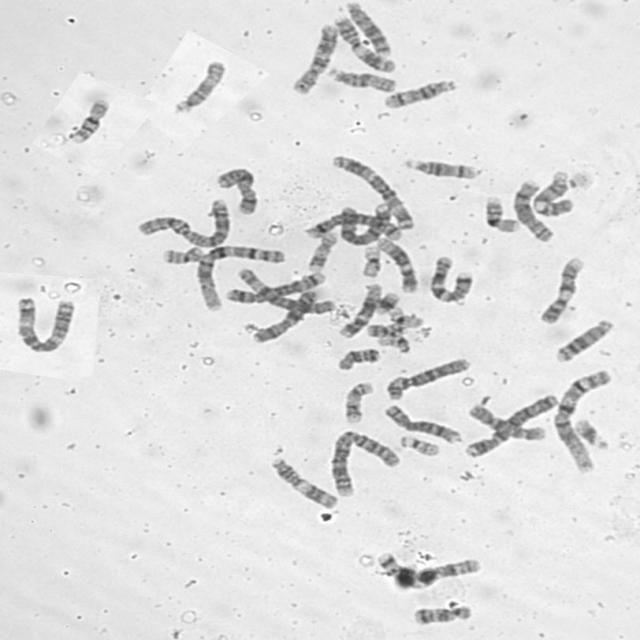A1: (552, 370, 612, 475), (196, 245, 286, 313)
A2: (329, 429, 401, 498), (136, 199, 230, 248)
A3: (331, 154, 417, 230), (16, 294, 78, 358)
B4: (463, 394, 559, 459), (338, 201, 393, 247)
B5: (224, 270, 326, 305), (306, 214, 403, 242)
C10: (292, 24, 338, 95), (467, 403, 548, 442)
C11: (332, 14, 396, 73), (272, 458, 340, 510)
C12: (338, 283, 382, 339), (375, 238, 419, 294)
C6: (236, 267, 336, 316), (386, 357, 472, 401)
C7: (378, 551, 482, 581), (430, 255, 474, 304)
C8: (383, 404, 463, 445), (513, 179, 555, 244)
C9: (539, 256, 586, 325), (530, 170, 576, 219)
D13: (344, 2, 393, 58), (555, 319, 615, 363)
D14: (380, 79, 457, 110), (404, 156, 478, 182)
D15: (171, 60, 228, 115), (327, 68, 398, 94)
E16: (71, 97, 113, 143), (483, 195, 521, 234)
E17: (344, 379, 373, 424), (306, 232, 337, 274)
E18: (412, 605, 474, 626), (336, 348, 380, 371)
F19: (388, 308, 424, 330), (360, 245, 383, 277)
F20: (160, 246, 204, 264), (364, 323, 407, 338)
G21: (573, 417, 613, 453), (374, 291, 400, 316)
G22: (400, 434, 440, 456), (377, 336, 413, 354)
X: (252, 289, 318, 344), (214, 166, 258, 217)
